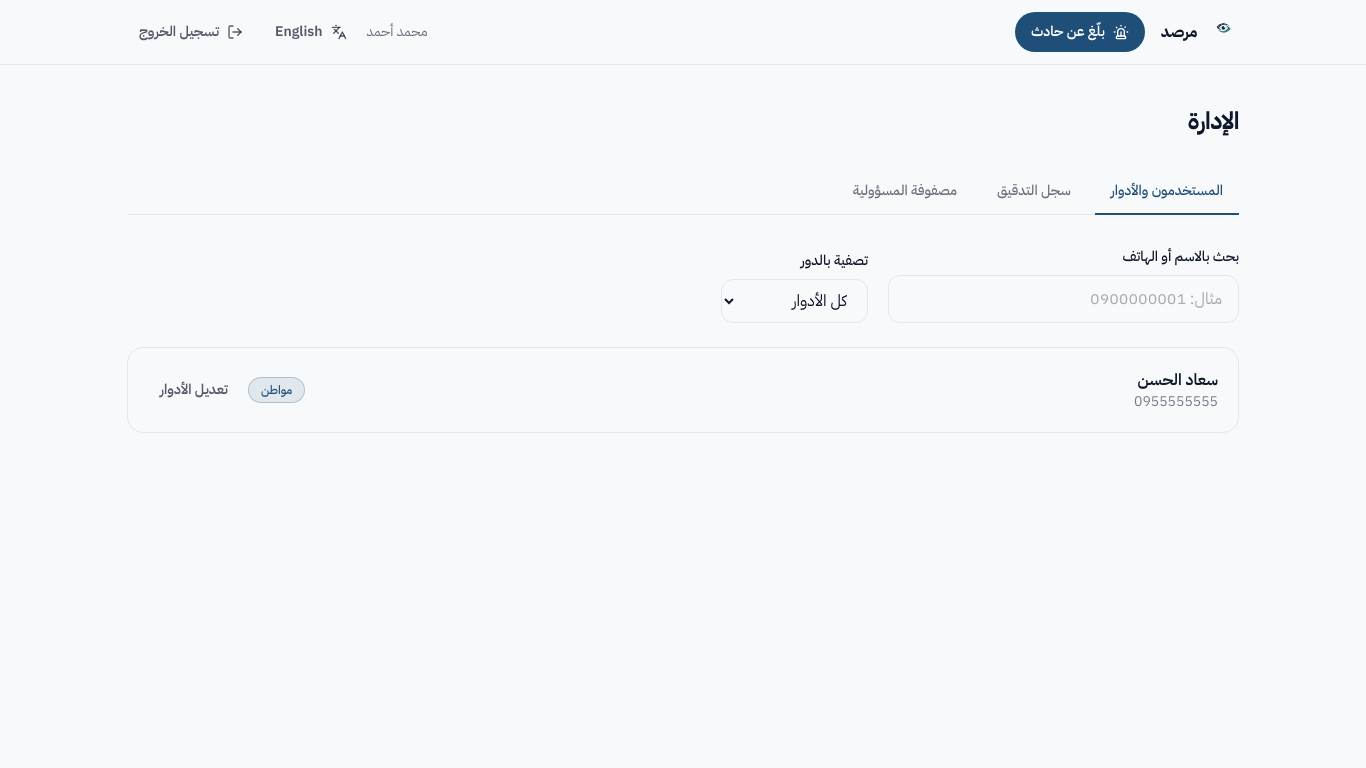
users and roles › offers the super admin checkbox to a super admin
Click the button "تعديل الأدوار" at x=194, y=390, box [148,372,240,408]
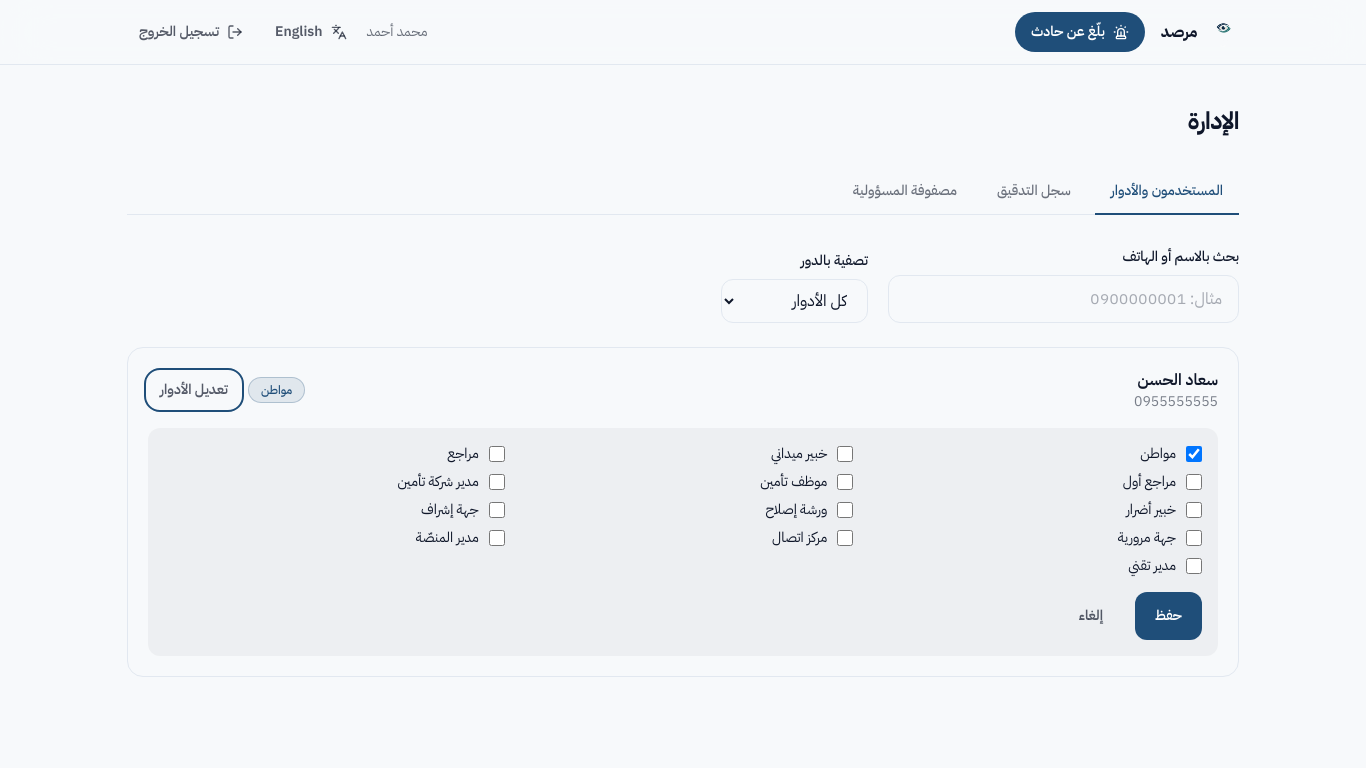
Now the checkbox labelled "مدير تقني" is shown, box [1186,558,1202,574]
